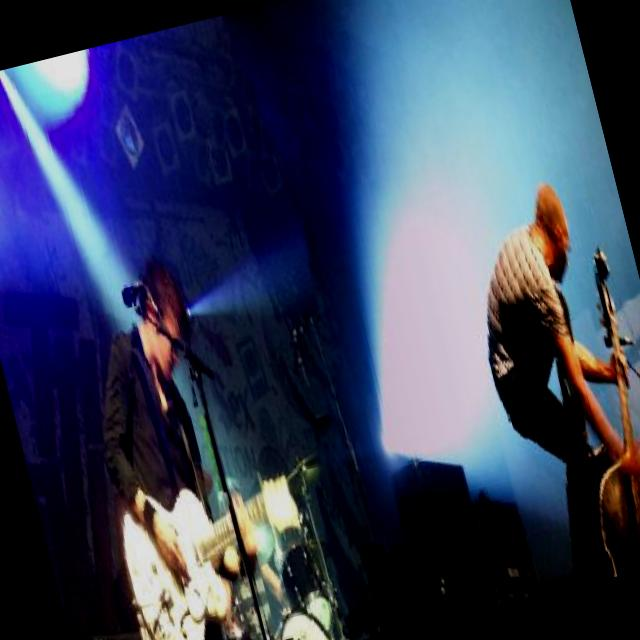Person: (48, 237, 279, 640), (441, 164, 640, 593), (188, 470, 298, 640)
